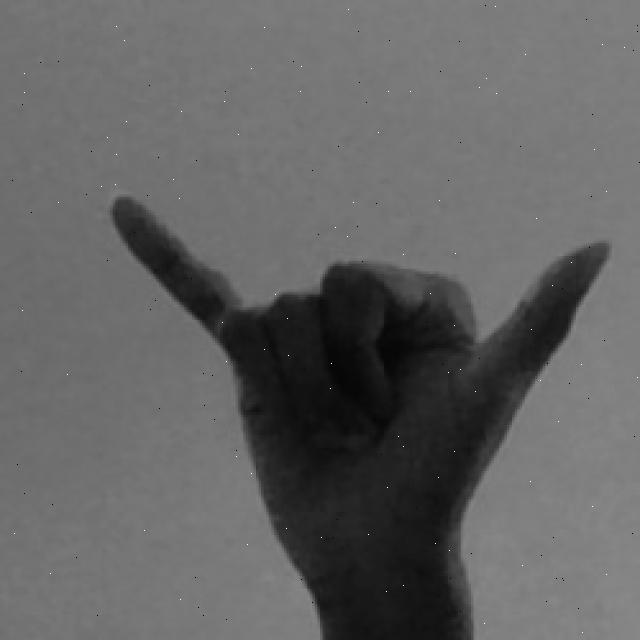Y: (99, 176, 619, 640)
